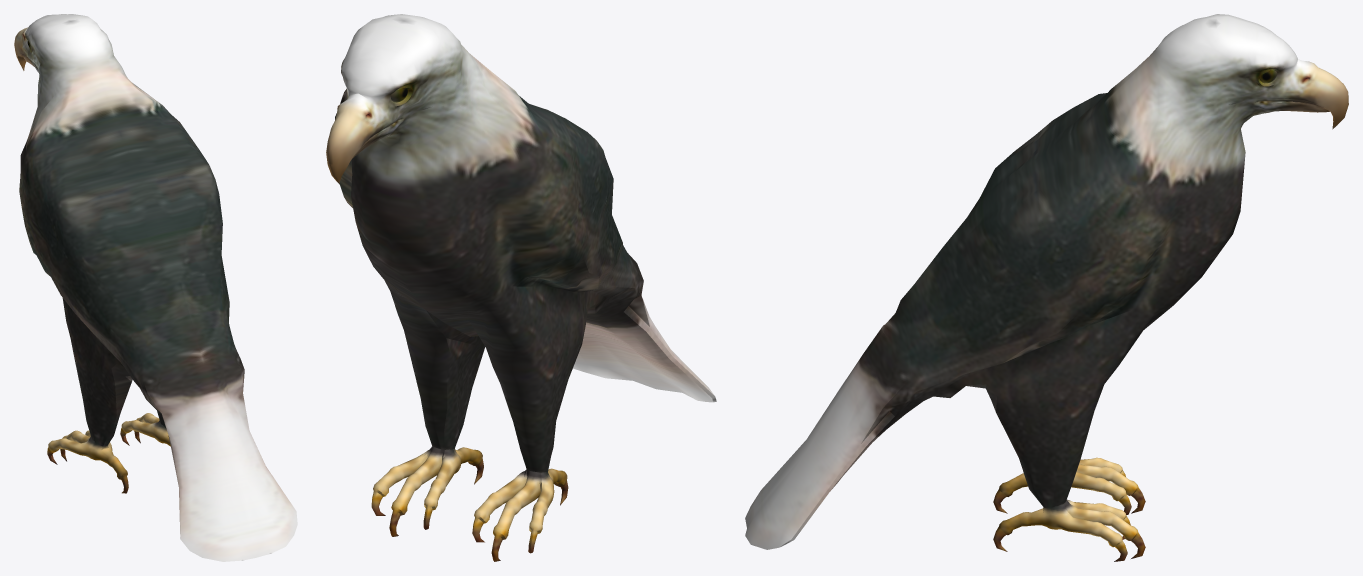
The model's file is eagleSitting.obj.
The picture shows the model from 3 angles, left to right: view 1: azimuth 30°, elevation 25°; view 2: azimuth 150°, elevation 25°; view 3: azimuth 270°, elevation 25°; orthographic projection. The views are drawn at different scales.
Parts seen in each view (by area): view 1: bald_.001; view 2: bald_.001; view 3: bald_.001.
Boxes of the visible parts, x1,y1,x2,y2 form: bald_.001: (14,14,297,561); bald_.001: (326,14,716,561); bald_.001: (745,14,1348,561).
Bounding box in the file's own units: 1.27 × 2.92 × 3.12.
Materials: 1 (1 with a texture image).
